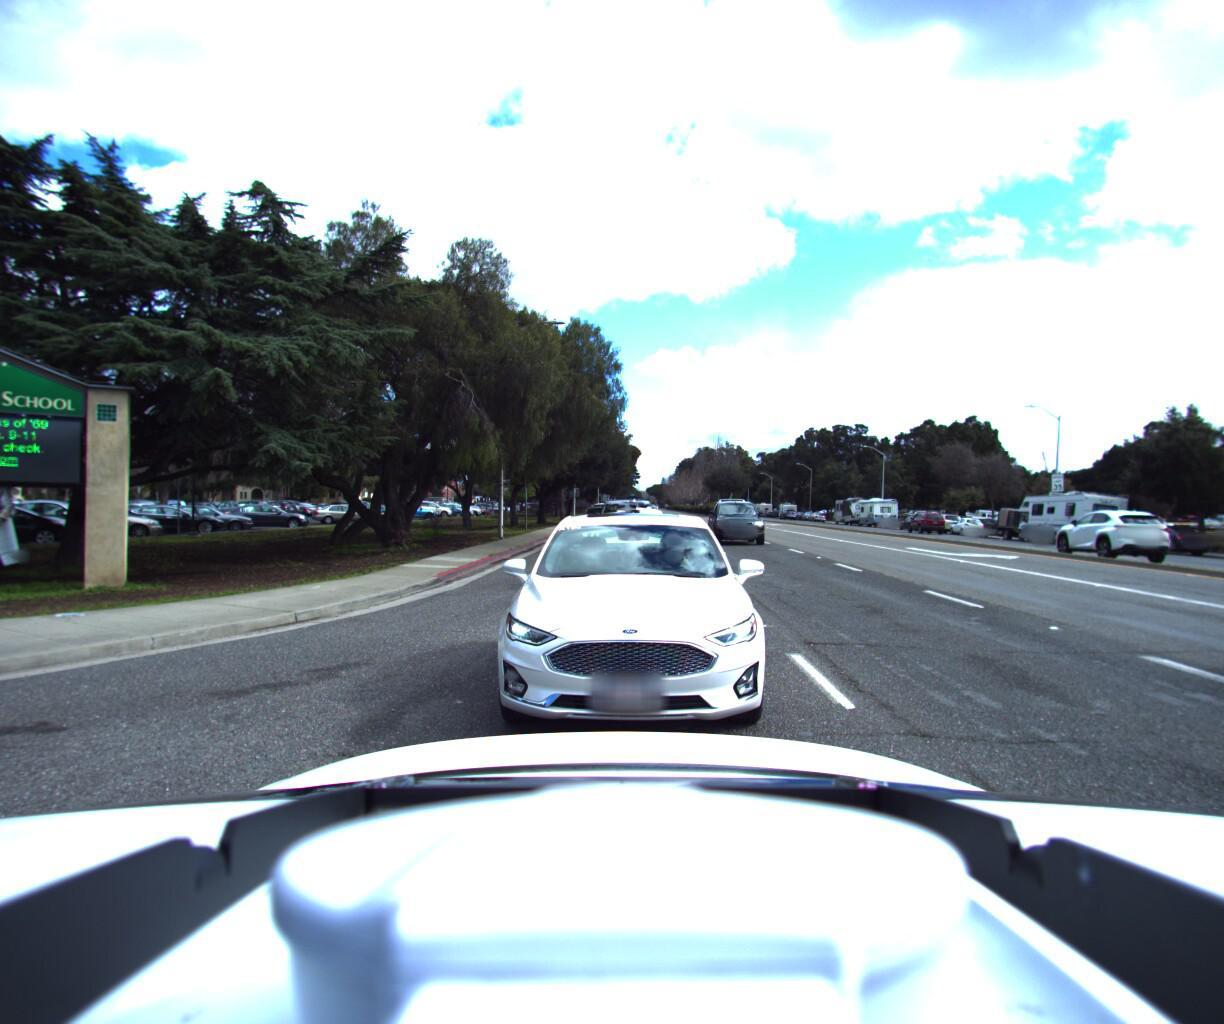car: (475, 501, 781, 755), (570, 492, 673, 591), (1031, 506, 1161, 563), (617, 497, 691, 568), (1118, 527, 1215, 562), (708, 499, 769, 550), (587, 496, 644, 549), (898, 509, 941, 534), (942, 518, 987, 538), (921, 513, 963, 534)
other_vehicle: (1012, 487, 1131, 553), (979, 505, 1044, 546)
